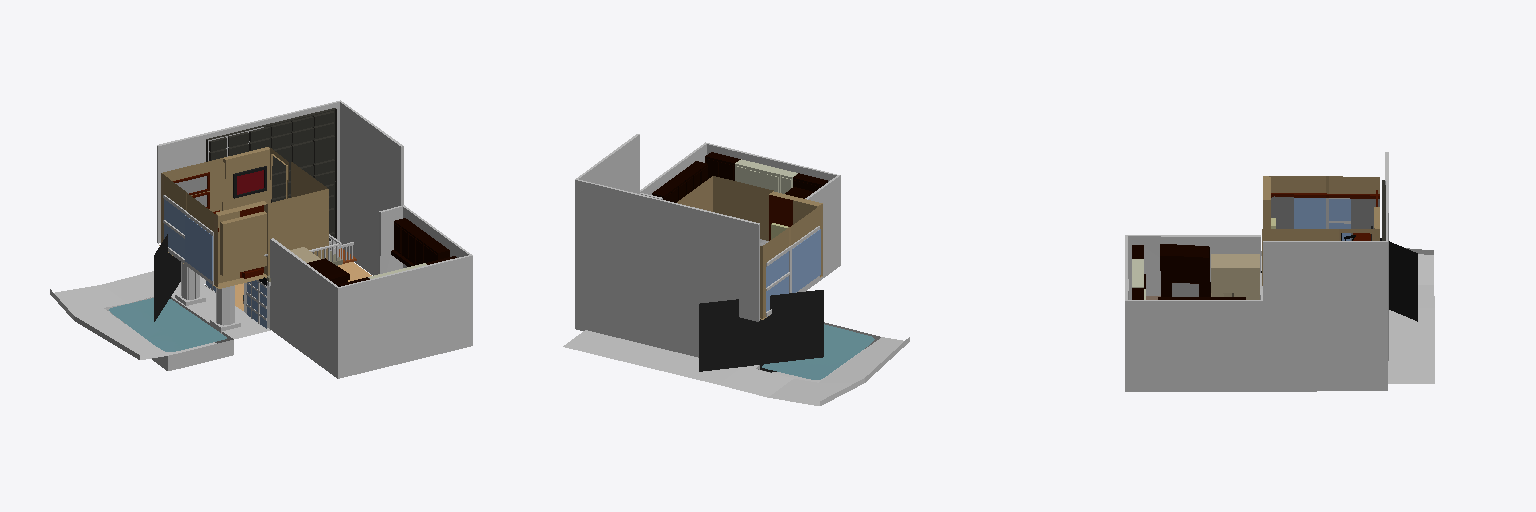
Rendered from house.obj.
3 views of the same model, side by side, from view 1: azimuth 30°, elevation 25°; view 2: azimuth 150°, elevation 25°; view 3: azimuth 270°, elevation 25° (orthographic).
Parts seen in each view (by area): view 1: Cube.085_Cube.089, Mesh_Mesh.185, Cube.079_Cube.085, Cube.022_Cube.028, Mesh.179_Mesh.193, Mesh.162_Mesh.167, Mesh.181_Mesh.195, Mesh.180_Mesh.194, Cube.077_Cube.082, Cube.084_Cube.088, Cube.062_Cube.065, Cube.075_Cube.080 (+7 smaller); view 2: Mesh_Mesh.185, Cube.062_Cube.065, Mesh.179_Mesh.193, Cube.085_Cube.089, Mesh.162_Mesh.167, Mesh.181_Mesh.195, Cube.077_Cube.082, Cube.079_Cube.085, Cube.020_Cube, Cube.075_Cube.080, Cube.084_Cube.088, Cube.082_Cube.030 (+1 smaller); view 3: Mesh_Mesh.185, Cube.085_Cube.089, Mesh.179_Mesh.193, Cube.077_Cube.082, Plane.002, Cube.024_Cube.008, Cube.062_Cube.065, Cube.075_Cube.080, Mesh.162_Mesh.167, Cube.079_Cube.085, Cube.073_Cube.078, Cube.074_Cube.079.
Part boxes in pixels (left/top/right/bottom): Cube.085_Cube.089: left=270, top=205, right=472, bottom=378; Mesh_Mesh.185: left=157, top=100, right=403, bottom=275; Cube.079_Cube.085: left=162, top=147, right=288, bottom=287; Cube.022_Cube.028: left=206, top=108, right=336, bottom=240; Mesh.179_Mesh.193: left=50, top=271, right=205, bottom=359; Mesh.162_Mesh.167: left=159, top=162, right=328, bottom=288; Mesh.181_Mesh.195: left=109, top=298, right=226, bottom=351; Mesh.180_Mesh.194: left=104, top=284, right=270, bottom=370; Cube.077_Cube.082: left=161, top=173, right=217, bottom=286; Cube.084_Cube.088: left=391, top=218, right=449, bottom=266; Cube.062_Cube.065: left=154, top=234, right=180, bottom=321; Cube.075_Cube.080: left=185, top=215, right=212, bottom=280; Mesh_Mesh.185: left=575, top=134, right=759, bottom=357; Cube.062_Cube.065: left=699, top=290, right=823, bottom=372; Mesh.179_Mesh.193: left=563, top=330, right=909, bottom=405; Cube.085_Cube.089: left=640, top=142, right=840, bottom=291; Mesh.162_Mesh.167: left=677, top=176, right=822, bottom=319; Mesh.181_Mesh.195: left=762, top=324, right=874, bottom=379; Cube.077_Cube.082: left=763, top=204, right=822, bottom=317; Cube.079_Cube.085: left=760, top=191, right=822, bottom=318; Cube.020_Cube: left=735, top=159, right=797, bottom=193; Cube.075_Cube.080: left=792, top=229, right=820, bottom=292; Cube.084_Cube.088: left=652, top=161, right=707, bottom=202; Cube.082_Cube.030: left=705, top=152, right=740, bottom=180; Mesh_Mesh.185: left=1263, top=152, right=1388, bottom=391; Cube.085_Cube.089: left=1125, top=235, right=1263, bottom=391; Mesh.179_Mesh.193: left=1261, top=248, right=1434, bottom=383; Cube.077_Cube.082: left=1269, top=176, right=1379, bottom=240; Plane.002: left=1160, top=244, right=1210, bottom=296; Cube.024_Cube.008: left=1211, top=254, right=1259, bottom=299; Cube.062_Cube.065: left=1380, top=238, right=1417, bottom=321; Cube.075_Cube.080: left=1294, top=198, right=1325, bottom=228; Mesh.162_Mesh.167: left=1262, top=229, right=1338, bottom=285; Cube.079_Cube.085: left=1263, top=176, right=1379, bottom=240; Cube.073_Cube.078: left=1351, top=199, right=1379, bottom=240; Cube.074_Cube.079: left=1271, top=196, right=1293, bottom=228.
Bounding box in the file's own units: 33.34 × 18.72 × 31.95.